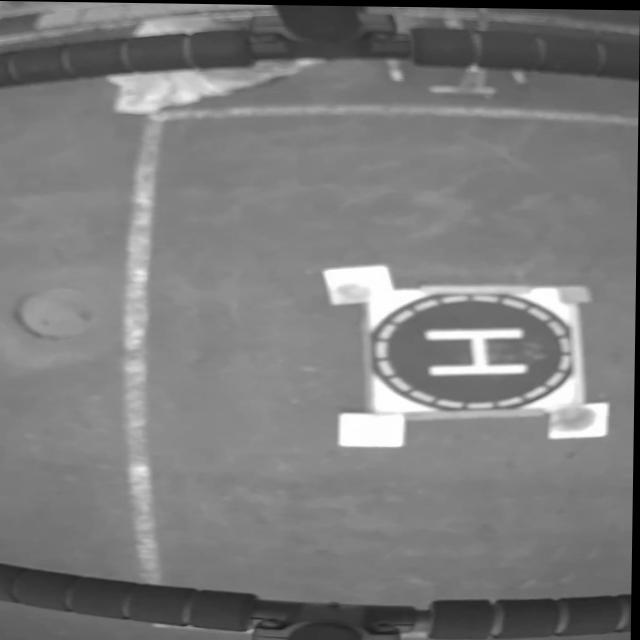Helipad: (423, 326, 529, 374)
